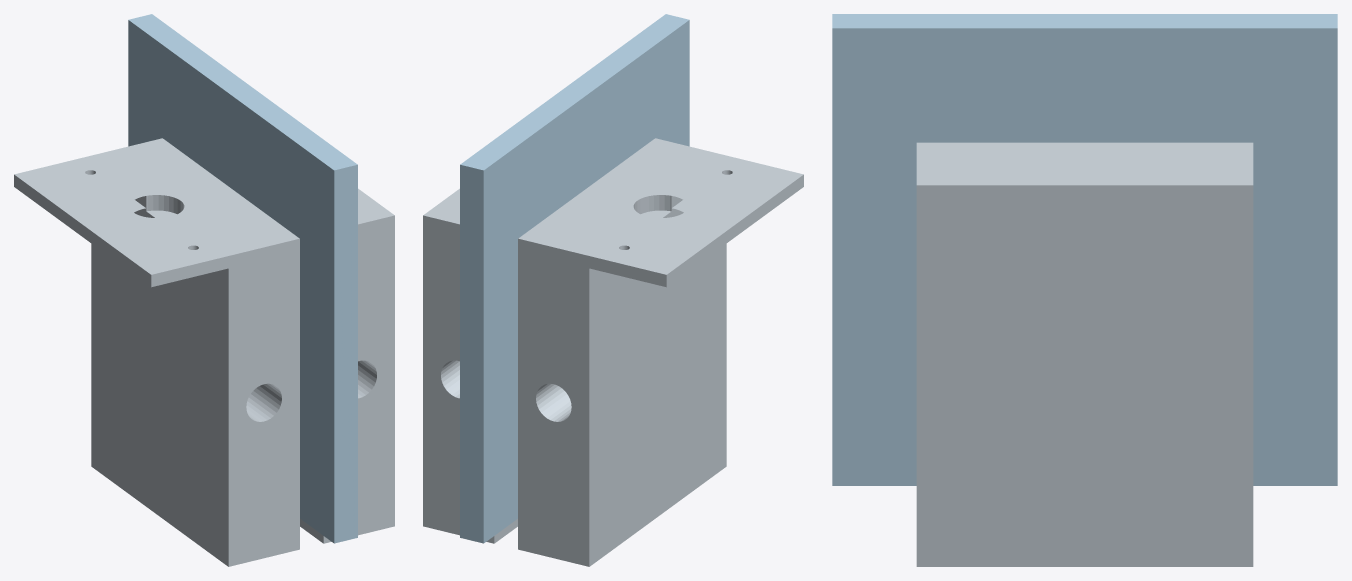
Rendered from iAqua_SR04_Bracket.glb.
3 views of the same model, side by side, from view 1: azimuth 30°, elevation 25°; view 2: azimuth 150°, elevation 25°; view 3: azimuth 270°, elevation 25° (orthographic). The views are drawn at different scales.
Visible parts, largest first — view 1: SR04_Bracket, Glass_8mm; view 2: SR04_Bracket, Glass_8mm; view 3: SR04_Bracket, Glass_8mm.
Part boxes in pixels (left/top/right/bottom): SR04_Bracket: left=14, top=138, right=394, bottom=566; Glass_8mm: left=128, top=14, right=357, bottom=543; SR04_Bracket: left=423, top=138, right=803, bottom=566; Glass_8mm: left=460, top=14, right=689, bottom=543; SR04_Bracket: left=916, top=142, right=1253, bottom=566; Glass_8mm: left=832, top=14, right=1337, bottom=485.
Bounding box in the file's own units: 82 × 130 × 120.
